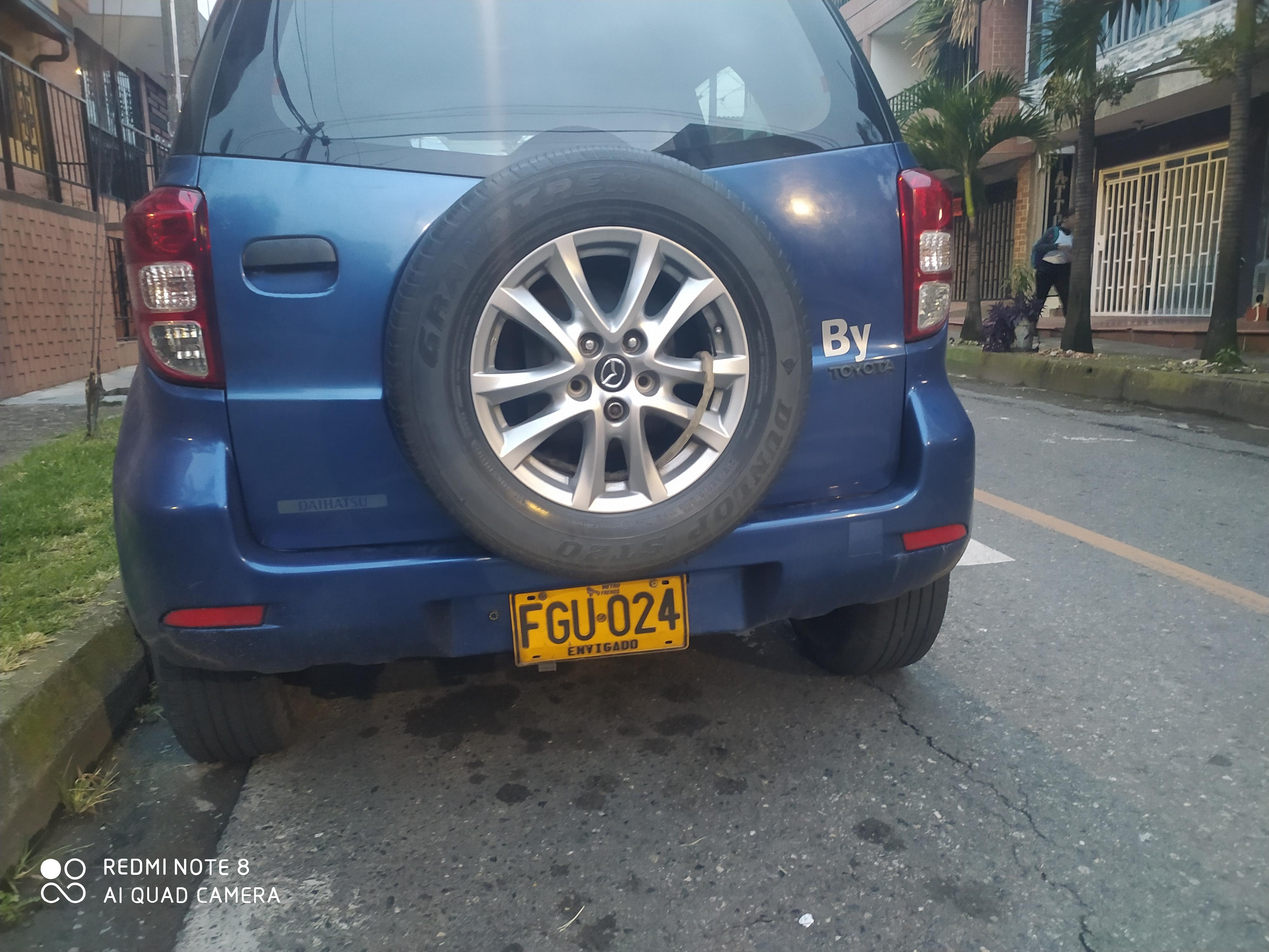placa: (491, 558, 699, 673)
